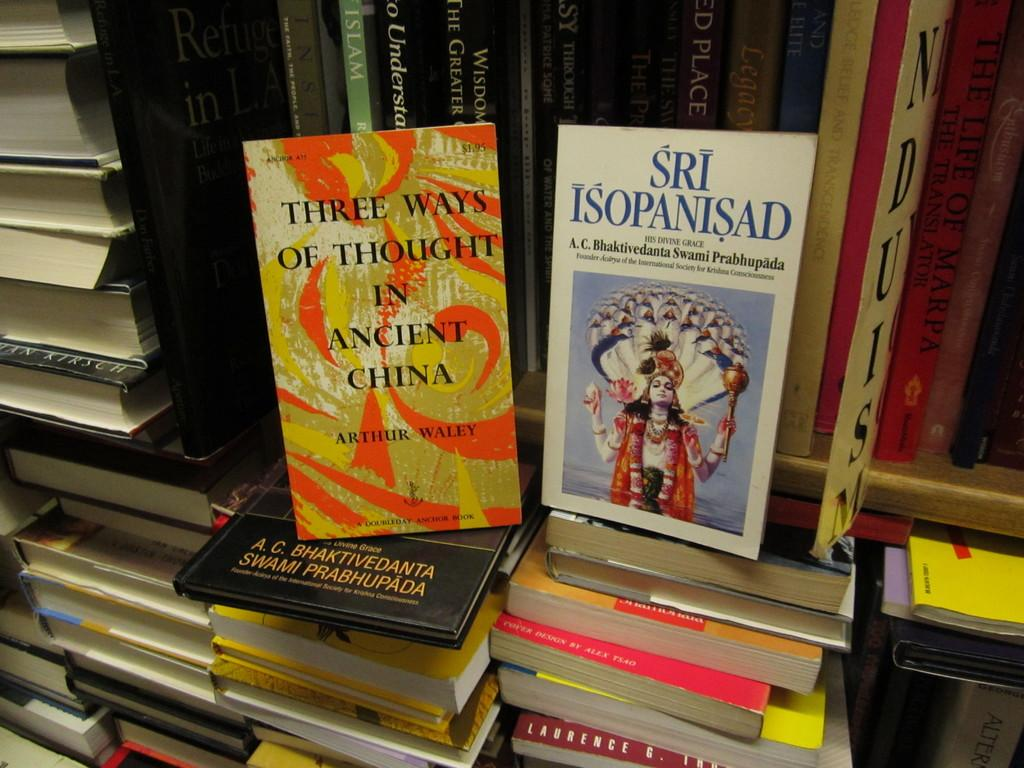Book: (0, 0, 1023, 767), (207, 96, 522, 588)
